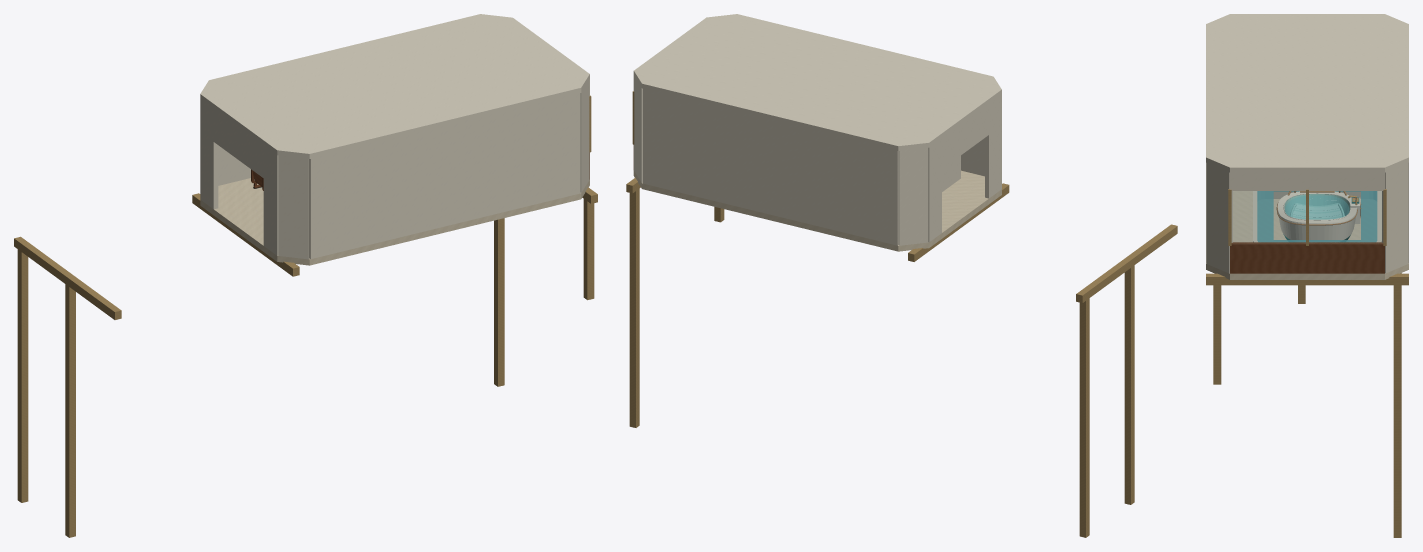
The model's file is D04_PORT_AFT_HOME_948_r001.glb.
3 views of the same model, side by side, from view 1: azimuth 30°, elevation 25°; view 2: azimuth 150°, elevation 25°; view 3: azimuth 270°, elevation 25° (orthographic). The views are drawn at different scales.
Visible parts, largest first — view 1: PA948_D04SH943_Roof, PA948_D04SH943_Shell_7, PA948_D04SH943_Floor, PA948_D04SH943_Shell_0, PA948_D04SH943_Pier_6, PA948_D04SH943_Pier_5, PA948_D04SH943_Pier_8, PA948_D04SH943_EntryWall_1, PA948_D04SH943_EntryHeader, PA948_D04SH943_EntryWall_0, PA948_D04SH943_ClearSupportLong, PA948_D04SH943_Pier_7 (+2 smaller); view 2: PA948_D04SH943_Roof, PA948_D04SH943_Shell_3, PA948_D04SH943_Floor, PA948_D04SH943_Shell_2, PA948_D04SH943_Pier_8, PA948_D04SH943_Pier_5, PA948_D04SH943_Pier_6, PA948_D04SH943_EntryHeader, PA948_D04SH943_EntryWall_0, PA948_D04SH943_ClearSupportLong, PA948_D04SH943_EntryWall_1, PA948_D04SH943_Shell_4 (+1 smaller); view 3: PA948_D04SH943_Roof, PA948_D04SH943_GardenGlass, PA948_D04SH943_GardenDado, PA948_D04SH943_Floor, PA948_D04SH943_GardenHead, PA948_ReservedAquaticRest__Hollow continuous basin shell wit, PA948_D04SH943_Shell_4, PA948_D04SH943_Shell_6, PA948_D04SH943_Pier_8, PA948_D04SH943_Water_0, PA948_D04SH943_Long_-29.35, PA948_ReservedAquaticRest__WaterSurface_VisualOnly (+3 smaller).
Part boxes in pixels (box(x1,y1,x2,y2)): PA948_D04SH943_Roof: box(200, 14, 589, 158); PA948_D04SH943_Shell_7: box(309, 93, 580, 259); PA948_D04SH943_Floor: box(200, 178, 589, 265); PA948_D04SH943_Shell_0: box(278, 155, 309, 259); PA948_D04SH943_Pier_6: box(17, 239, 28, 502); PA948_D04SH943_Pier_5: box(65, 274, 75, 537); PA948_D04SH943_Pier_8: box(494, 218, 504, 386); PA948_D04SH943_EntryWall_1: box(200, 99, 218, 209); PA948_D04SH943_EntryHeader: box(213, 109, 263, 177); PA948_D04SH943_EntryWall_0: box(263, 146, 278, 255); PA948_D04SH943_ClearSupportLong: box(14, 236, 121, 319); PA948_D04SH943_Pier_7: box(583, 199, 594, 300); PA948_D04SH943_Roof: box(633, 14, 1001, 150); PA948_D04SH943_Shell_3: box(643, 88, 898, 245); PA948_D04SH943_Floor: box(633, 170, 1001, 251); PA948_D04SH943_Shell_2: box(898, 147, 928, 245); PA948_D04SH943_Pier_8: box(629, 179, 639, 427); PA948_D04SH943_Pier_5: box(1124, 256, 1134, 504); PA948_D04SH943_Pier_6: box(1079, 290, 1089, 537); PA948_D04SH943_EntryHeader: box(942, 104, 988, 168); PA948_D04SH943_EntryWall_0: box(985, 94, 1001, 198); PA948_D04SH943_ClearSupportLong: box(1076, 224, 1177, 303); PA948_D04SH943_EntryWall_1: box(928, 138, 941, 242); PA948_D04SH943_Shell_4: box(634, 76, 642, 182); PA948_D04SH943_Roof: box(1206, 14, 1408, 172); PA948_D04SH943_GardenGlass: box(1233, 191, 1382, 243); PA948_D04SH943_GardenDado: box(1230, 242, 1384, 273); PA948_D04SH943_Floor: box(1206, 191, 1408, 279); PA948_D04SH943_GardenHead: box(1230, 172, 1384, 190); PA948_ReservedAquaticRest__Hollow continuous basin shell wit: box(1277, 191, 1356, 239); PA948_D04SH943_Shell_4: box(1382, 163, 1408, 273); PA948_D04SH943_Shell_6: box(1206, 163, 1232, 273); PA948_D04SH943_Pier_8: box(1393, 273, 1401, 537); PA948_D04SH943_Water_0: box(1257, 191, 1377, 242); PA948_D04SH943_Long_-29.35: box(1206, 273, 1408, 285); PA948_ReservedAquaticRest__WaterSurface_VisualOnly: box(1285, 195, 1348, 219).
Bounding box in the file's own units: 20.11 × 14.58 × 7.2.
Materials: 40 (21 with a texture image).
